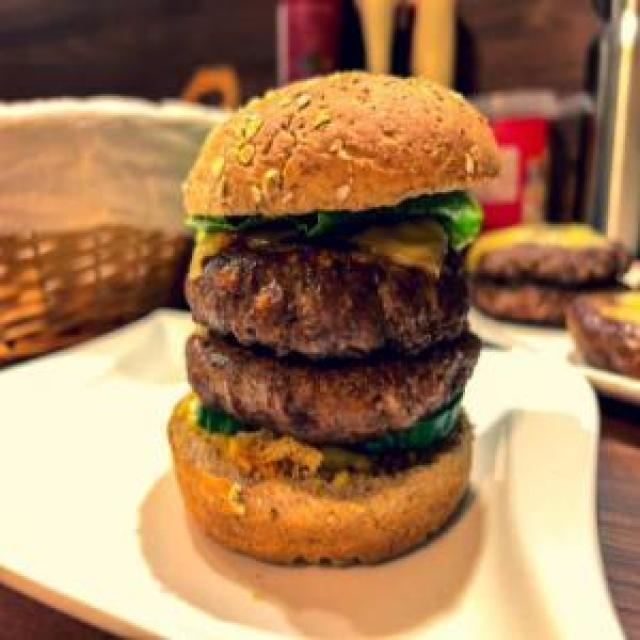Burger: (166, 69, 502, 568)
